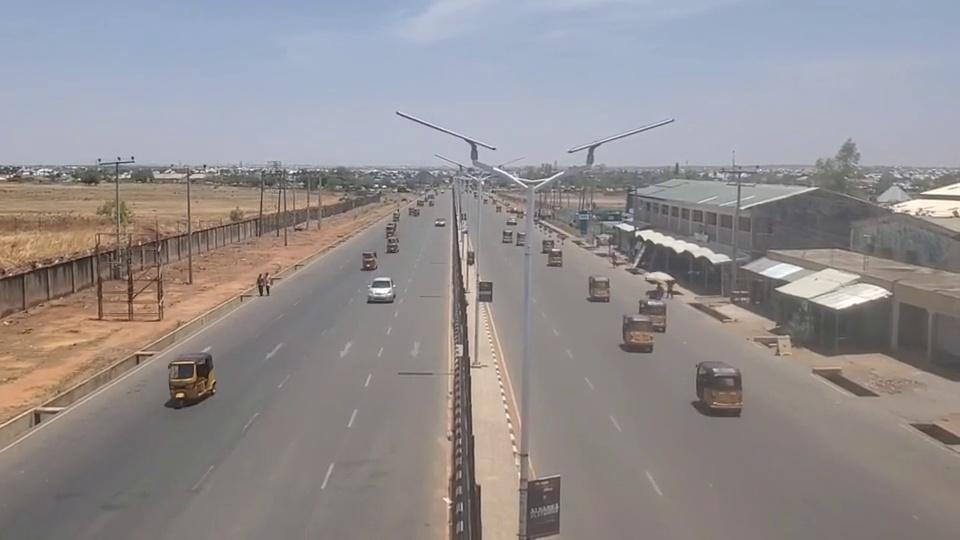keke: (167, 351, 216, 403), (694, 360, 742, 413)
